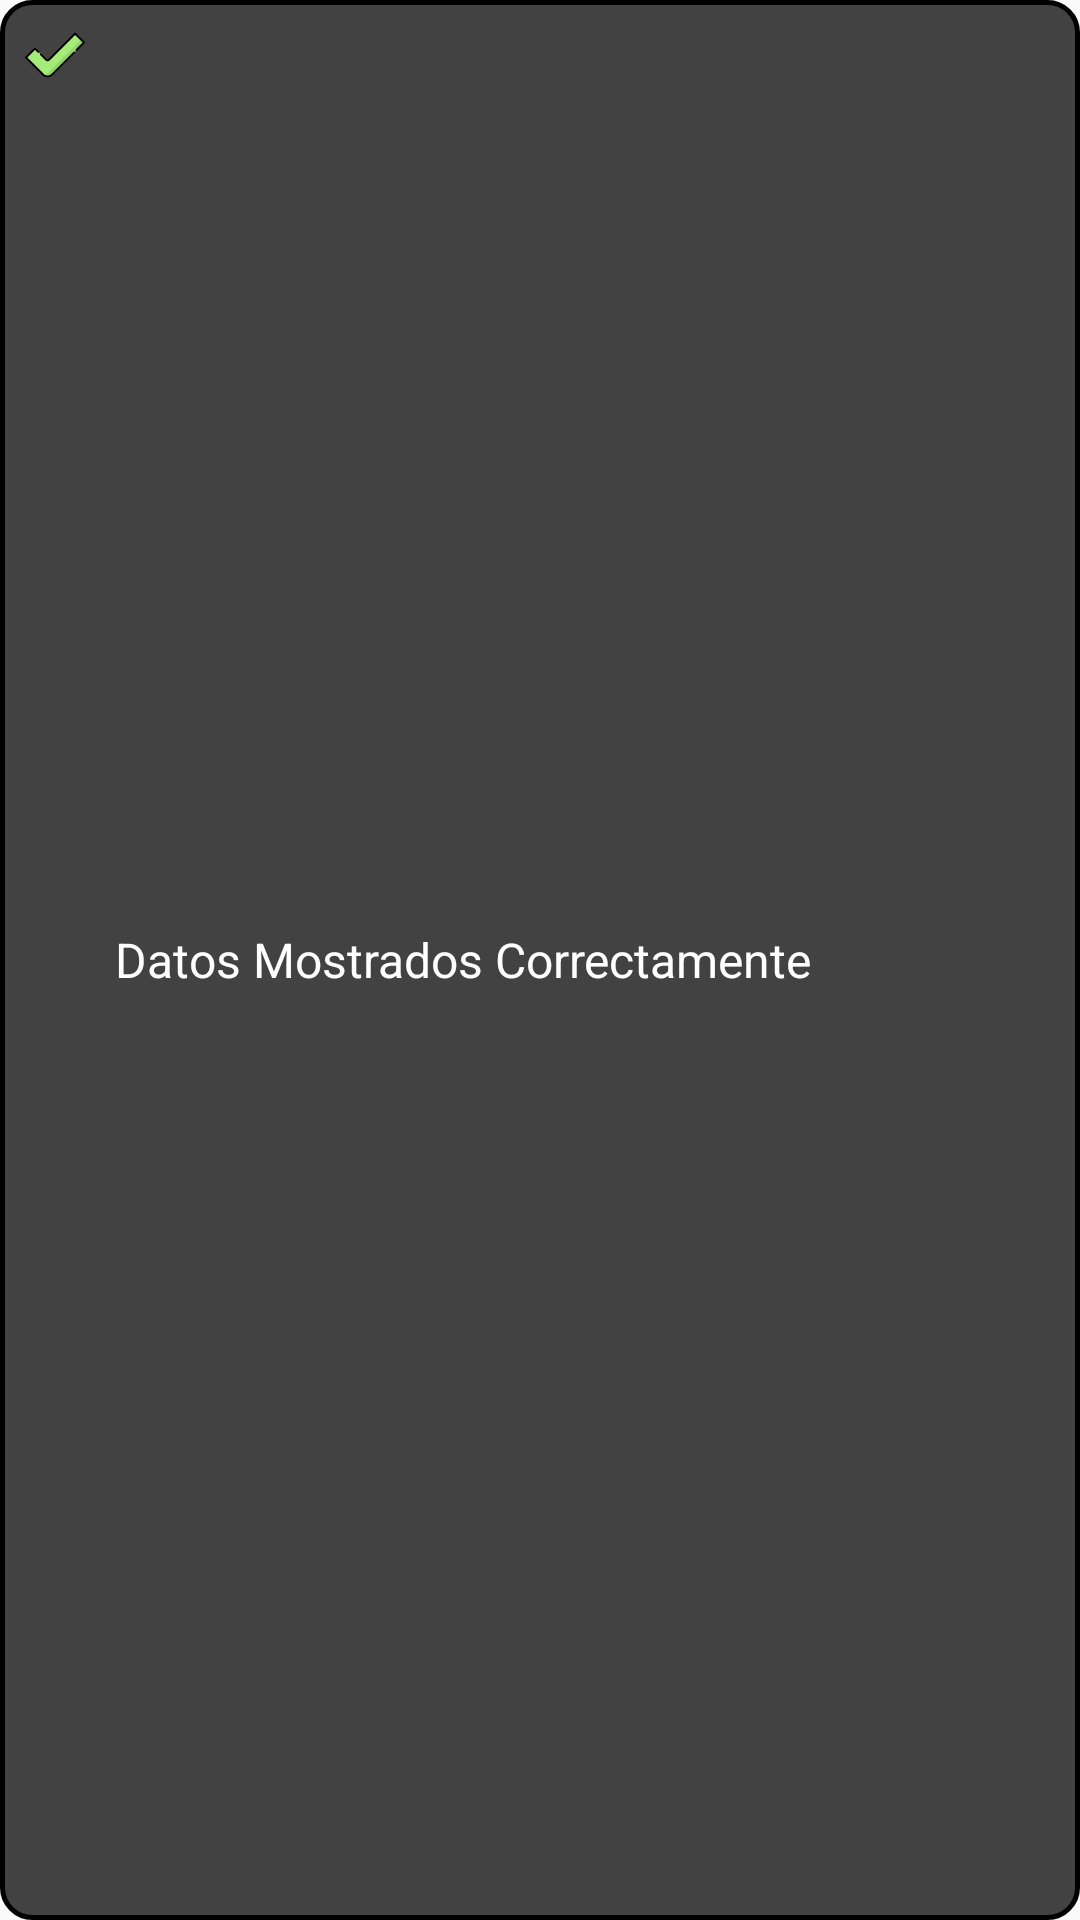

Icon click points for this 1080x1920 phone screenshot, format (x=x, y=y):
check: (x=55, y=55)
